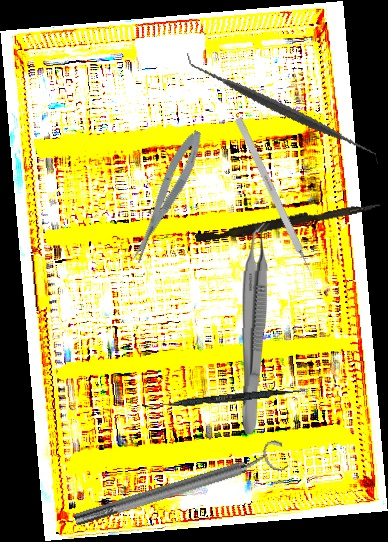Fixation Ring: (69, 437, 291, 536)
Hook Surgical: (234, 116, 318, 284)
Micro Scissor: (122, 126, 210, 266)
Pusher: (194, 195, 382, 248)
Spatula Surgical: (186, 15, 379, 202), (142, 384, 305, 413)
Tissue Forceps: (239, 222, 273, 435)
